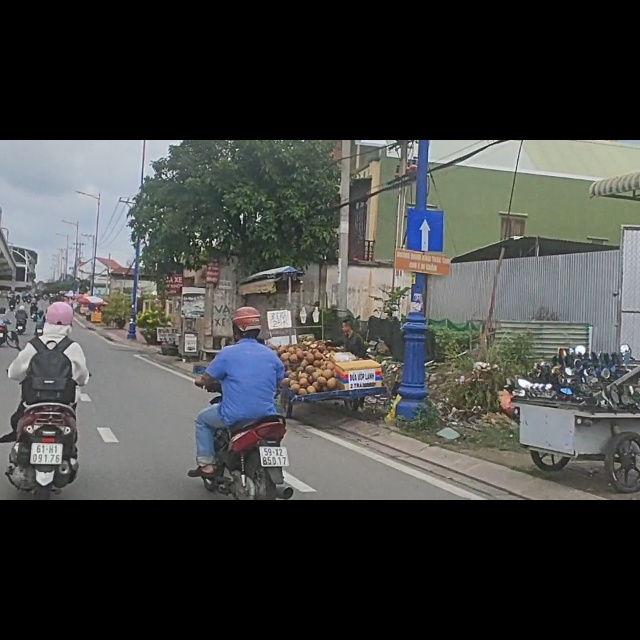bien_chi_dan: (407, 120, 443, 199)
